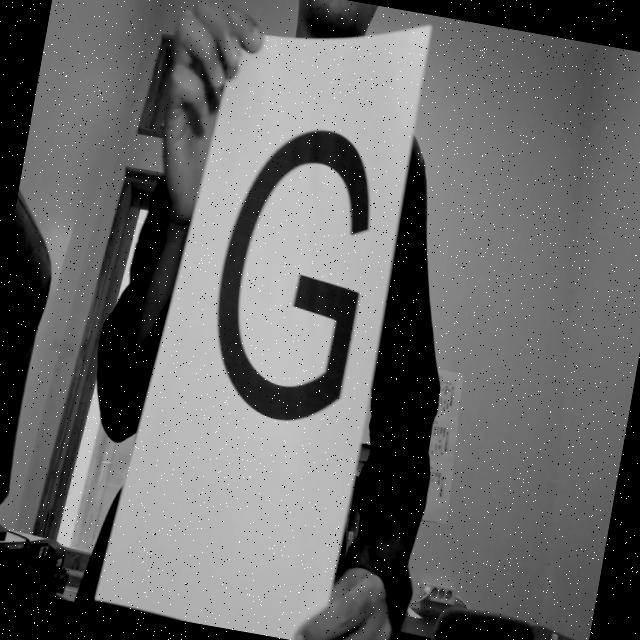g: (188, 104, 397, 442)
